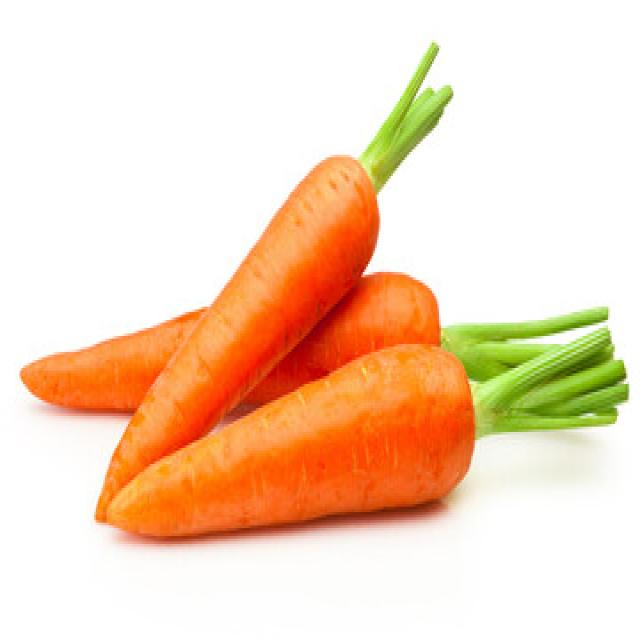Carrot: (92, 37, 454, 523), (98, 301, 628, 539), (18, 269, 441, 416), (18, 304, 210, 413)
